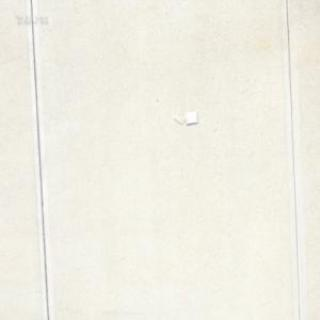LuggageTagtrack_idkeyframe: (172, 109, 197, 126)
